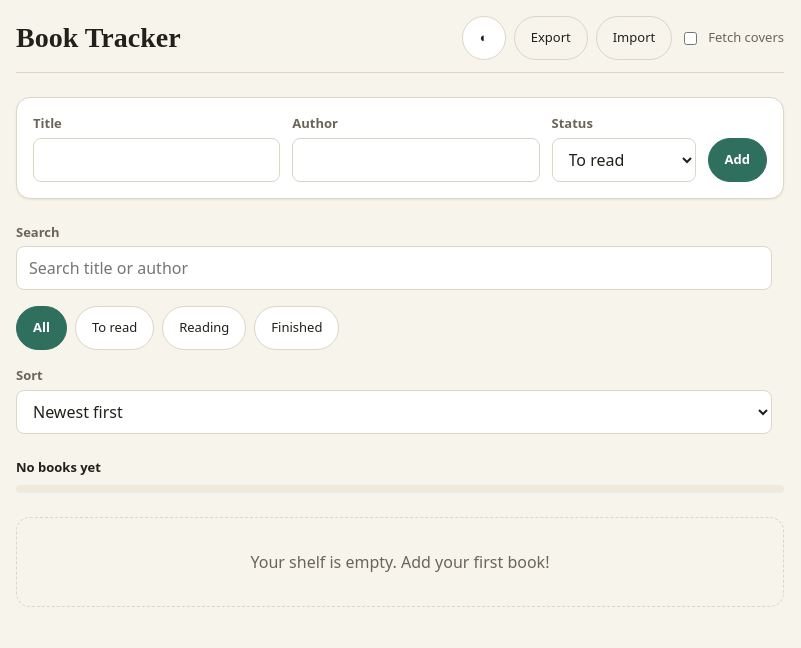
Test: AddBookForm › shows "Please enter a title" and saves nothing when the title is empty
The width and height of the screenshot is (801, 648).
Click the button "Add". click: (737, 160)
box: [708,138,767,182]
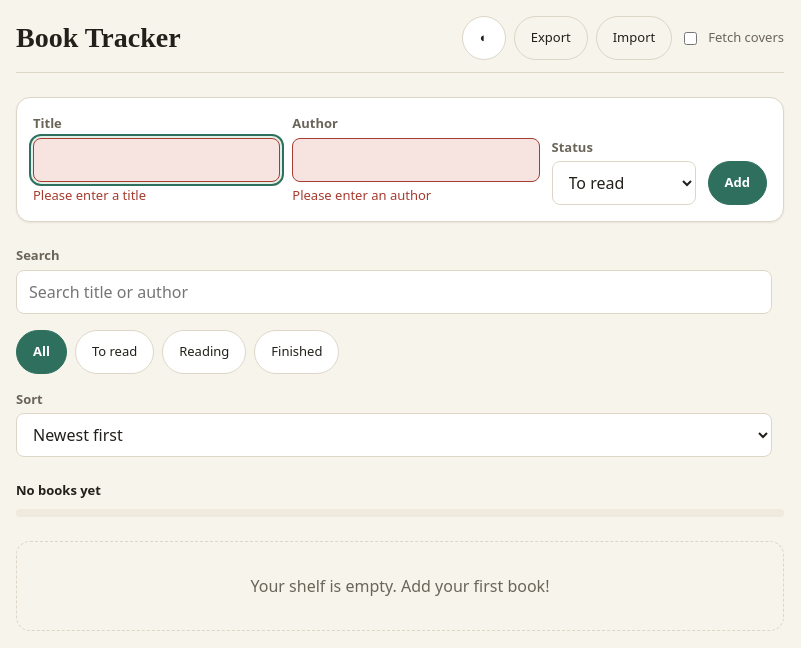
Expected: the text "Your shelf is empty. Add your first book!" is shown, [16,540,784,630]
Expected: the message with id "book-title-error" reads "Please enter a title", [33,186,146,204]
Expected: the text "Please enter an author" is shown, [292,186,431,204]
